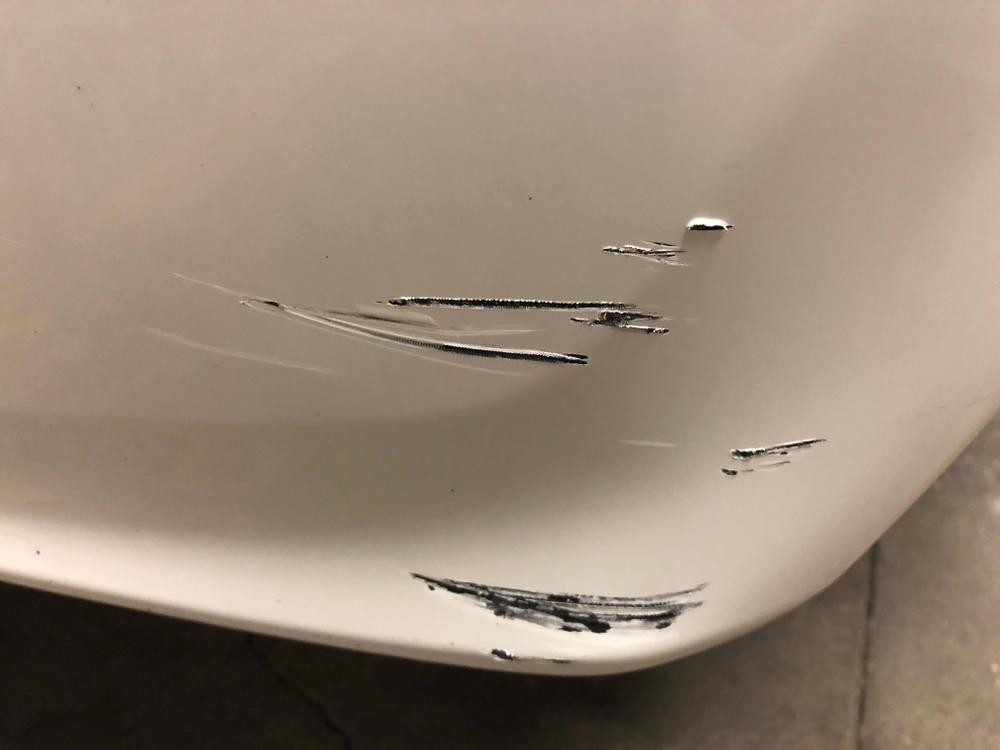scratch: (165, 207, 742, 387), (401, 561, 719, 671), (719, 432, 834, 480)
